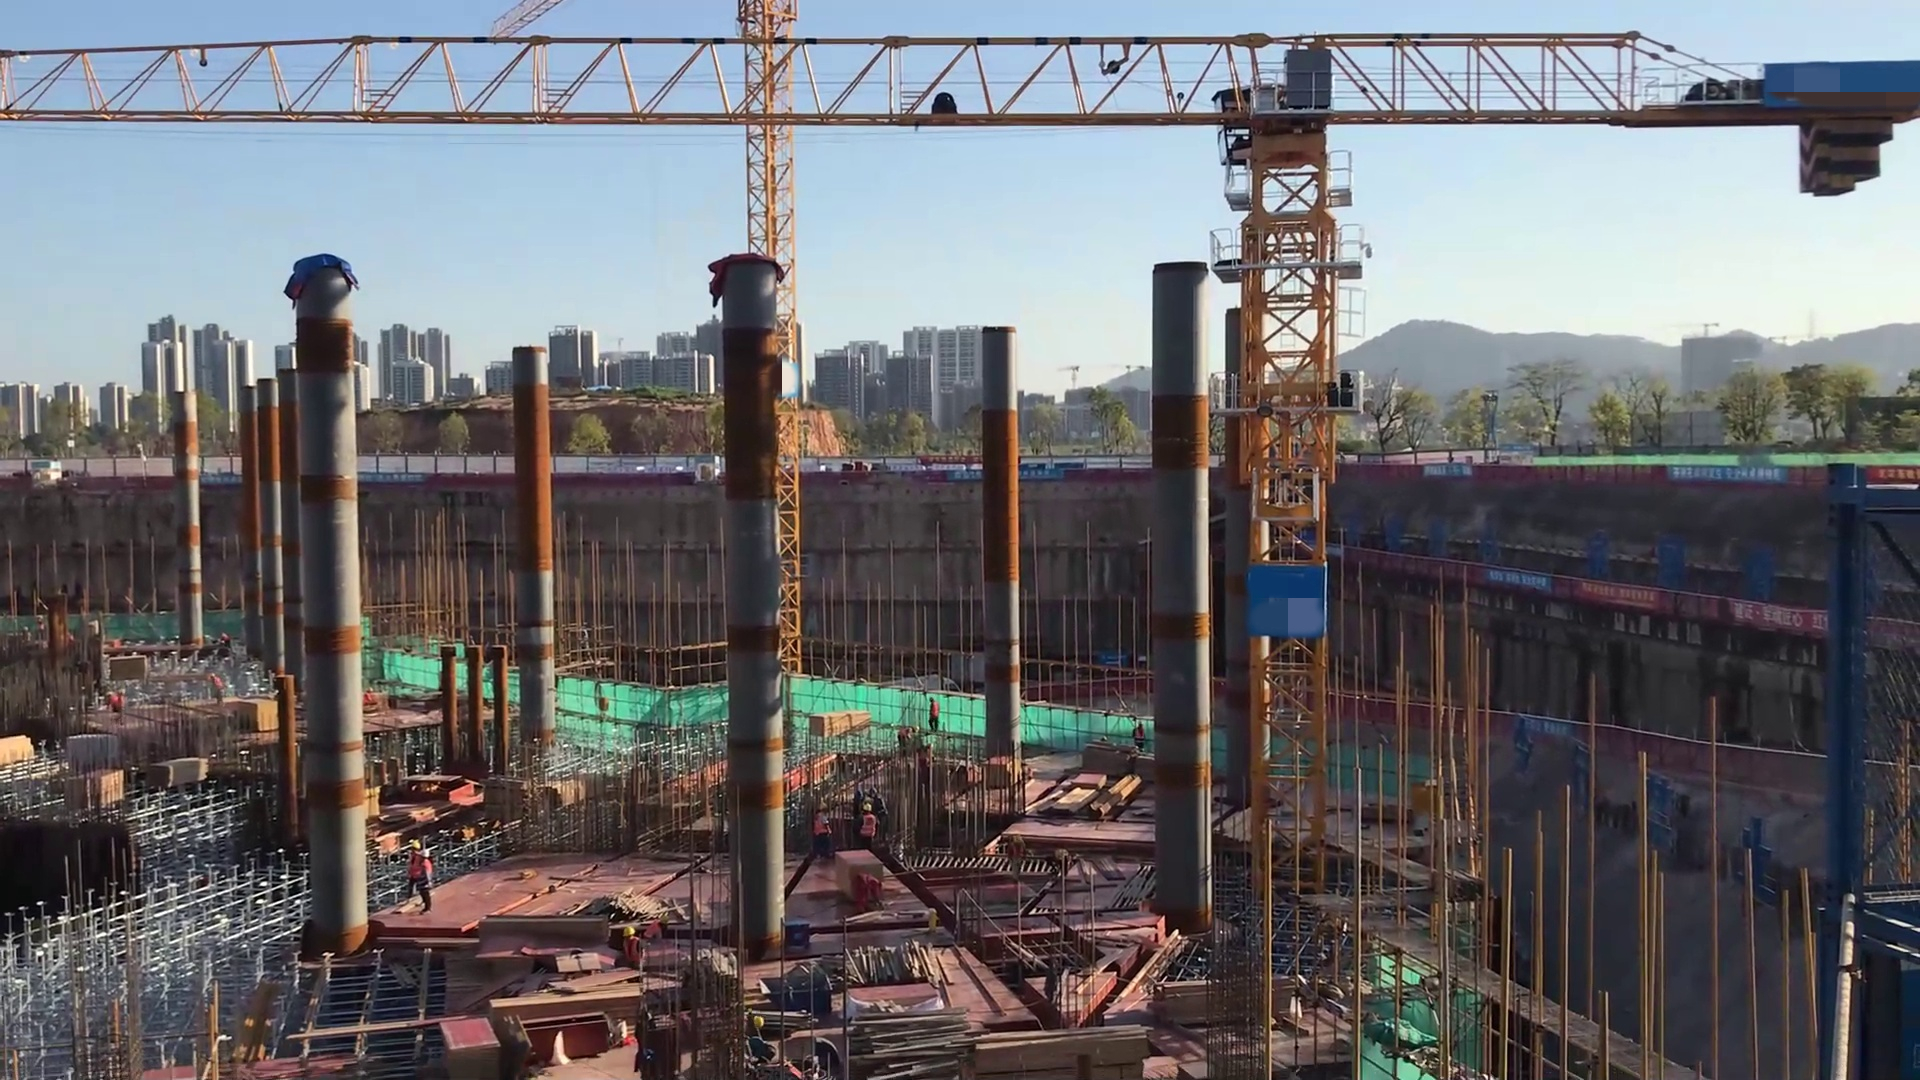board: (431, 1011, 514, 1076), (235, 696, 279, 732)
helmet: (622, 924, 637, 941), (657, 911, 670, 928), (861, 801, 874, 815), (817, 801, 828, 815), (418, 848, 430, 860), (410, 840, 421, 852), (912, 722, 920, 737), (928, 697, 937, 704)
hook: (762, 971, 827, 1014)
person: (415, 843, 441, 921), (619, 923, 647, 987), (850, 870, 885, 917), (640, 910, 672, 952), (98, 687, 128, 725), (206, 669, 229, 716), (407, 836, 422, 912), (815, 801, 832, 863), (857, 802, 879, 848), (1009, 833, 1027, 882), (926, 693, 943, 738), (895, 722, 918, 757), (921, 740, 939, 780), (1131, 718, 1147, 756), (360, 682, 375, 716)
slogan: (1733, 594, 1810, 633), (1664, 465, 1783, 483), (946, 468, 1059, 482), (1579, 583, 1660, 603), (1489, 568, 1547, 587), (358, 471, 430, 484), (1426, 464, 1469, 478), (200, 475, 245, 484)
vest: (621, 938, 645, 969), (815, 812, 833, 843), (420, 858, 434, 893), (859, 815, 878, 840), (408, 854, 423, 883), (643, 919, 663, 941), (1134, 727, 1145, 744)
wood: (967, 1014, 1163, 1080), (849, 1003, 986, 1080), (486, 986, 649, 1037), (1149, 972, 1295, 1026), (147, 752, 211, 794), (808, 704, 882, 741), (1, 730, 42, 769)
